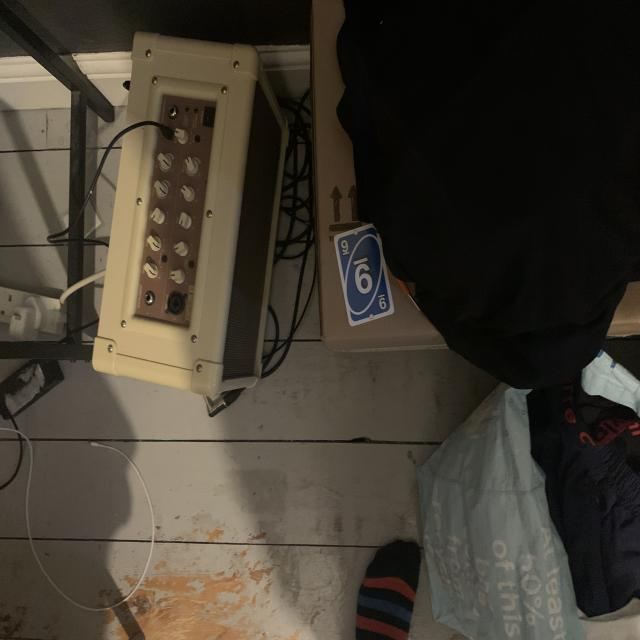lblue-9: (339, 237, 352, 257)
